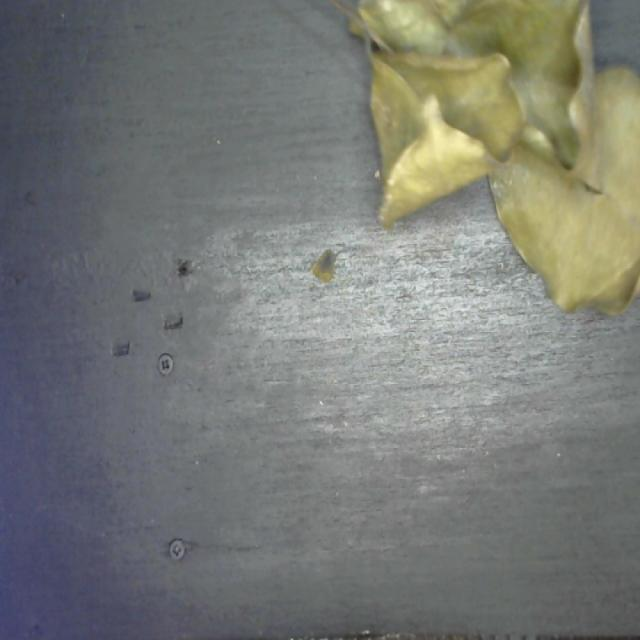biodegradable: (337, 0, 640, 329)
